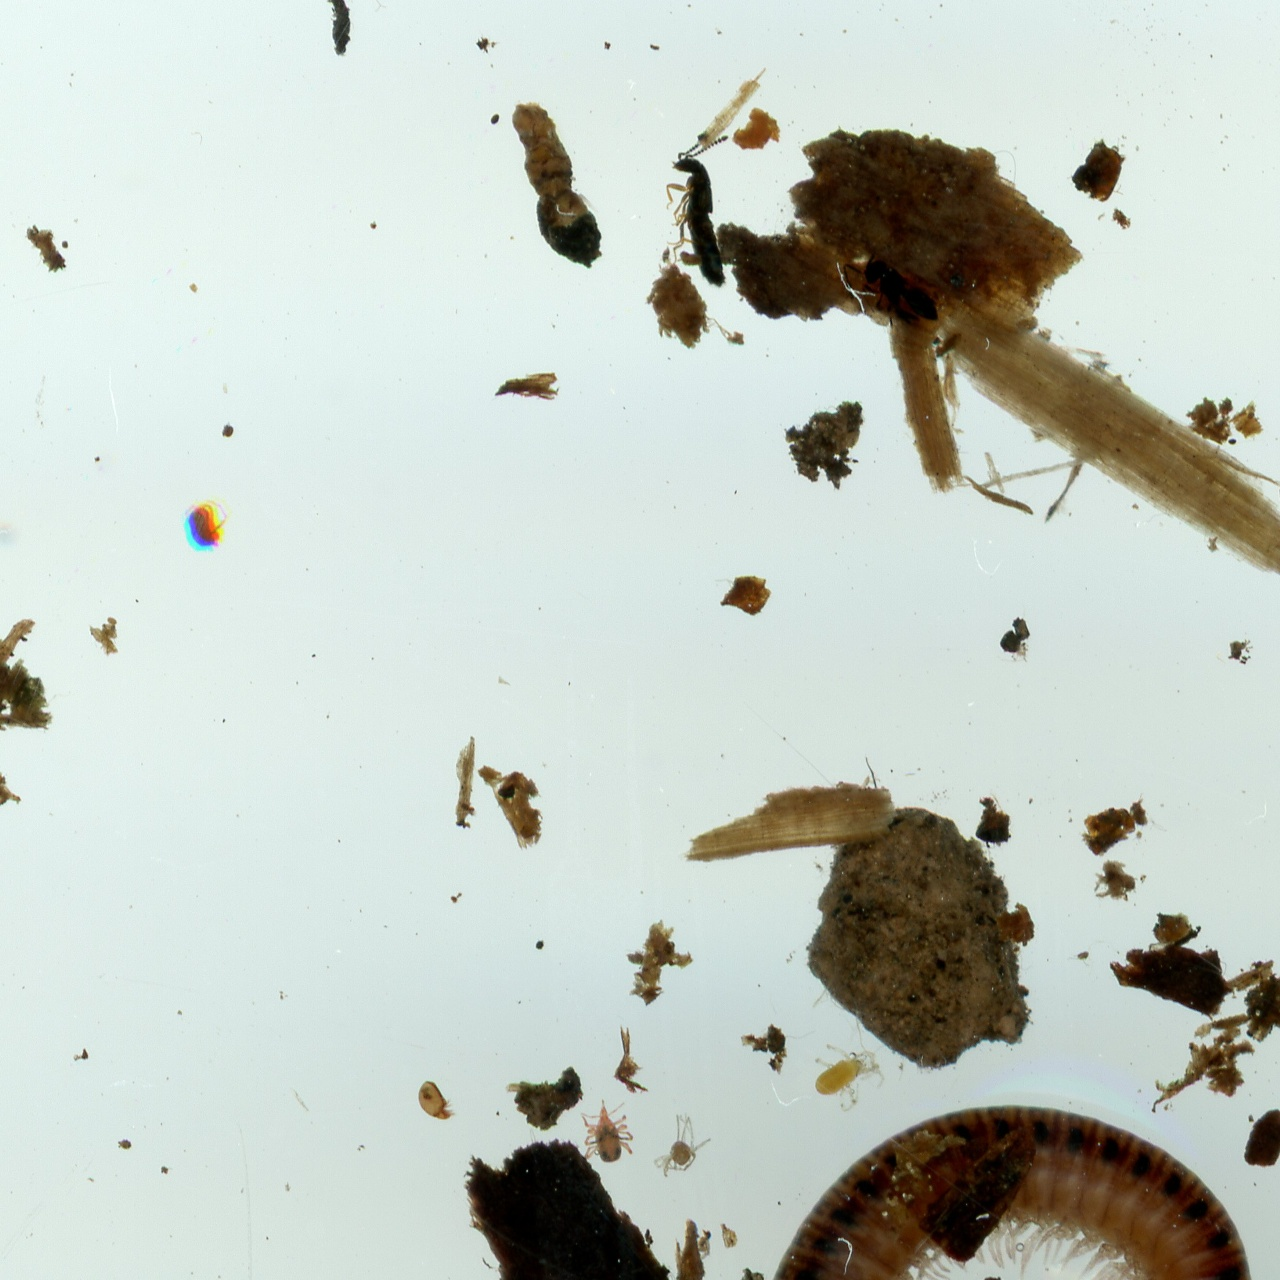arthropod: (728, 1092, 1264, 1280), (830, 233, 953, 354), (662, 129, 734, 291), (796, 1022, 897, 1123), (574, 1092, 640, 1170), (652, 1110, 714, 1178), (181, 498, 237, 556)
